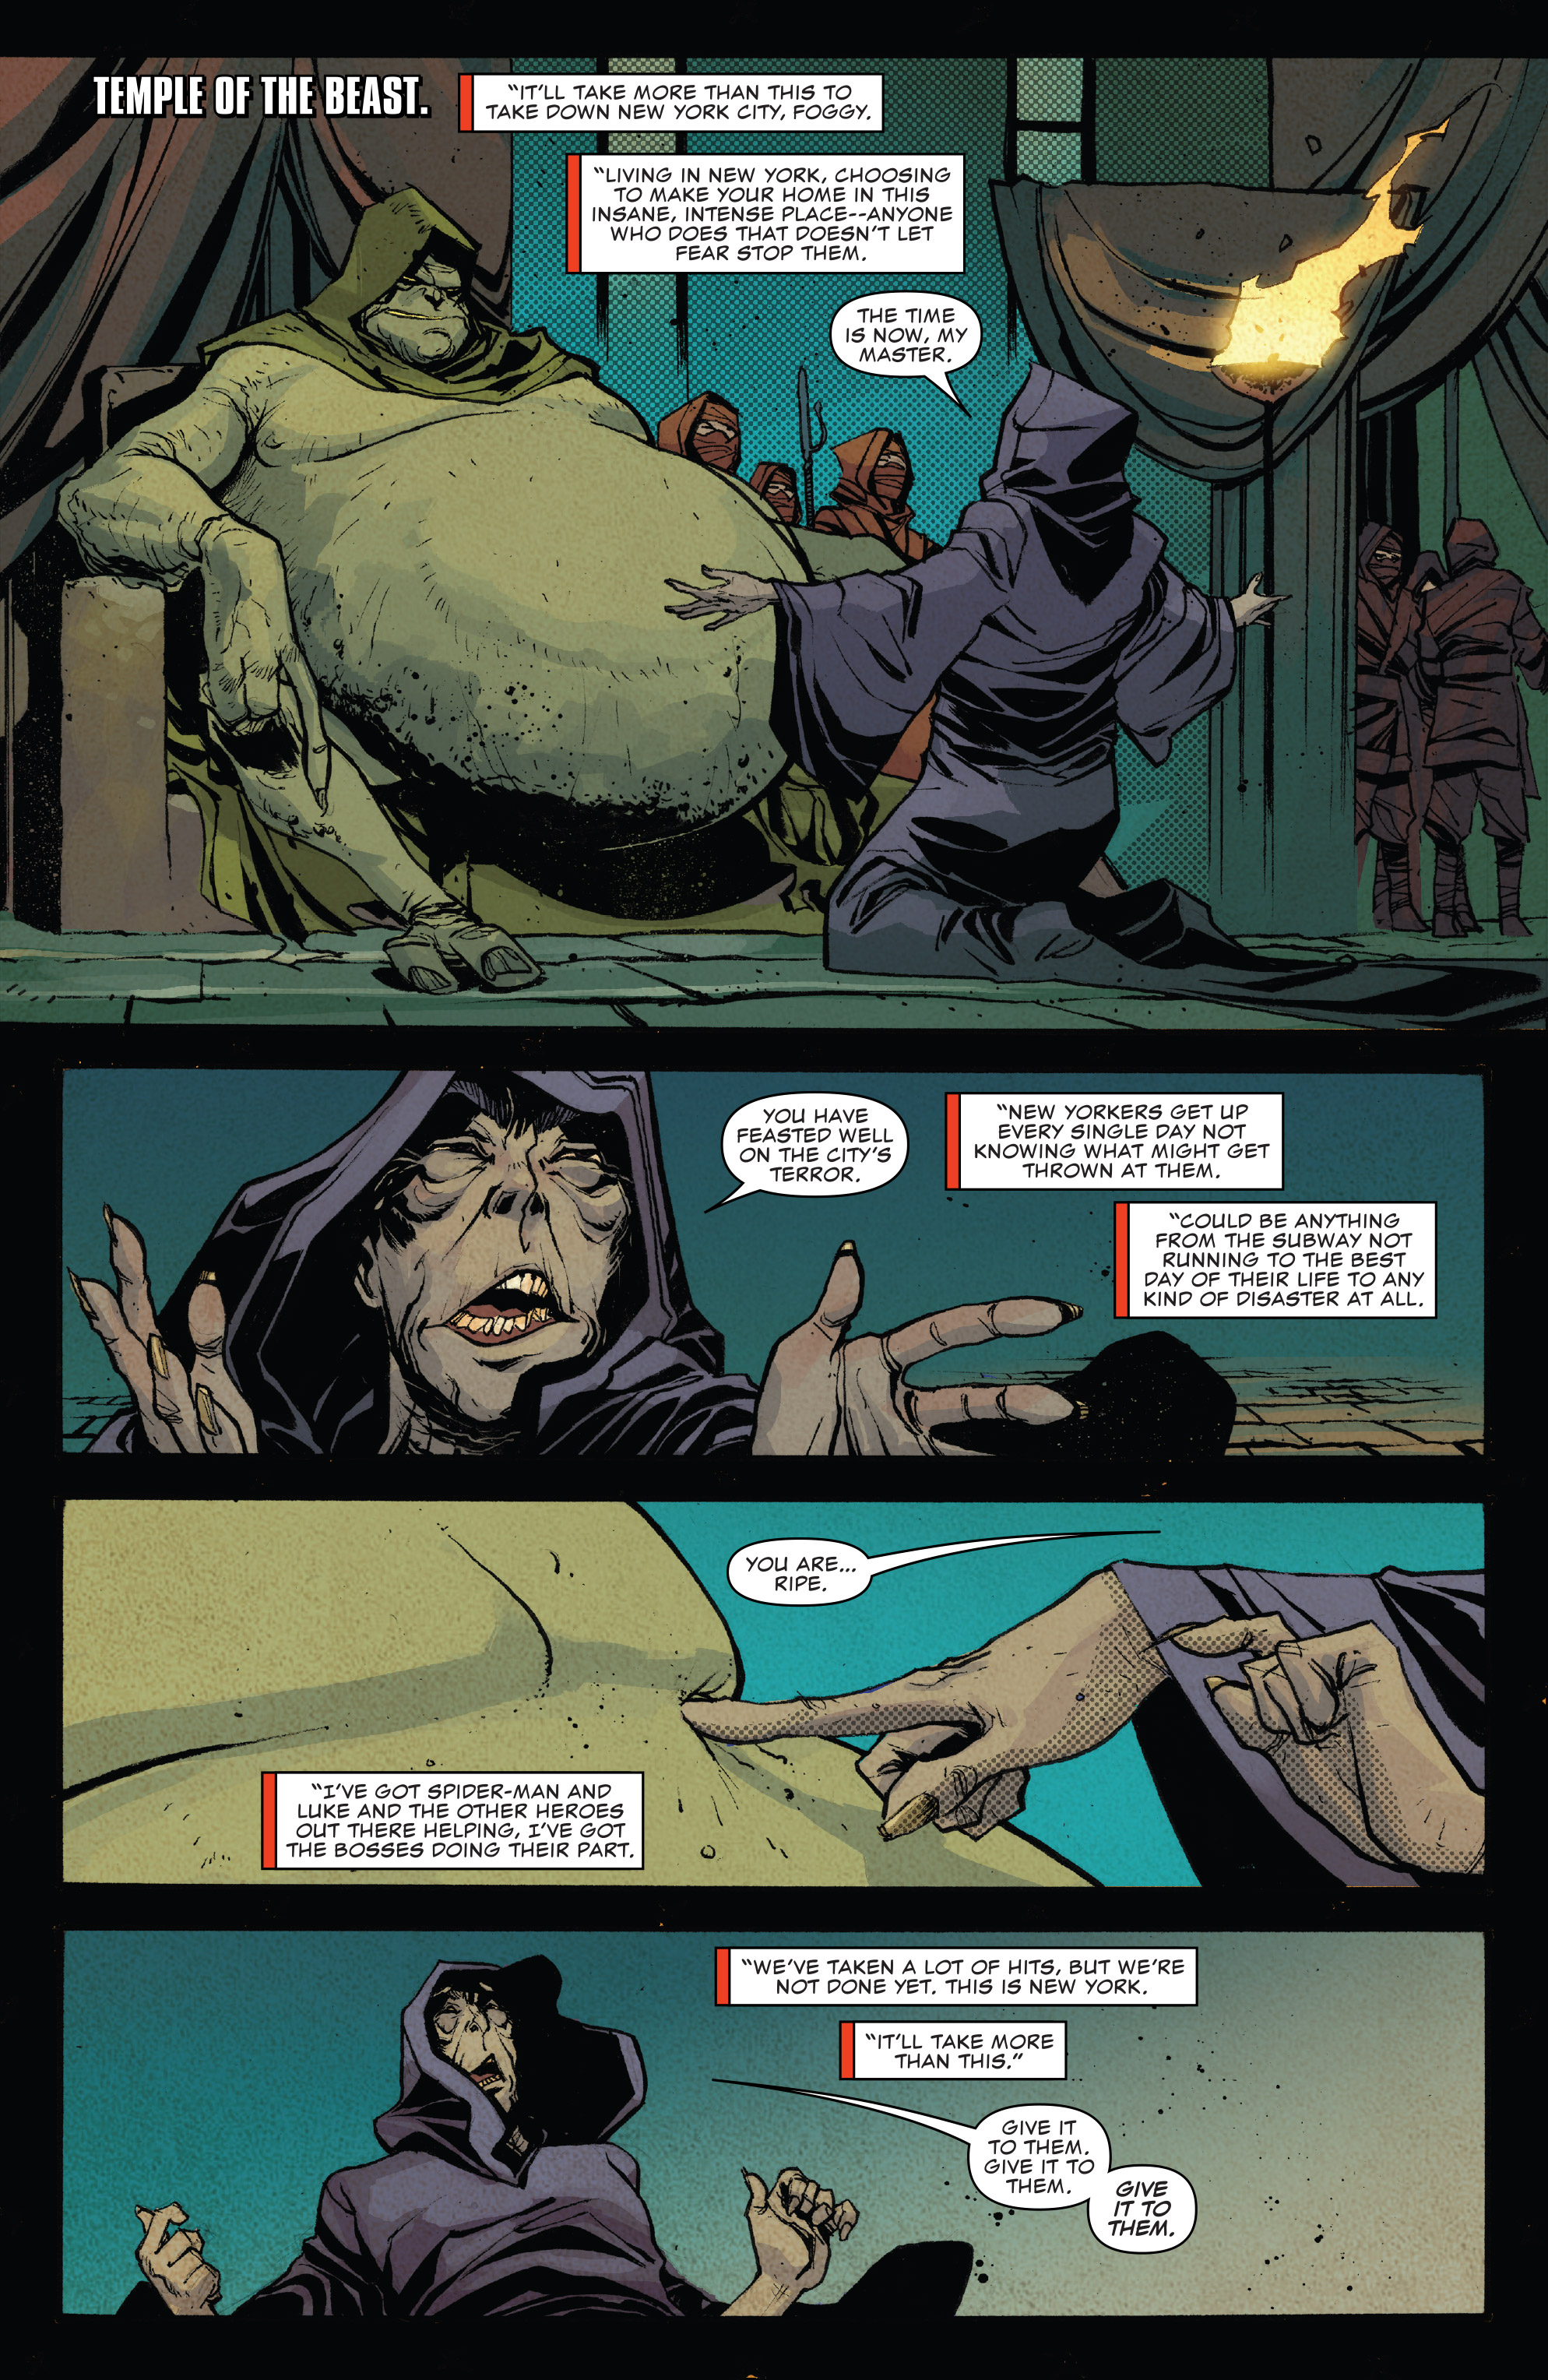Baloon: (894, 2090, 1210, 2260), (253, 1764, 650, 1872), (565, 158, 957, 265), (1113, 1197, 1432, 1320), (946, 1093, 1279, 1197), (721, 1533, 1050, 1624), (709, 1946, 1198, 2005), (452, 76, 891, 137), (716, 1096, 901, 1213), (830, 291, 990, 399), (836, 2021, 1076, 2083)
Vignetta: (7, 54, 1548, 1029), (68, 1920, 1480, 2321), (64, 1067, 1494, 1457), (71, 1504, 1487, 1886)
